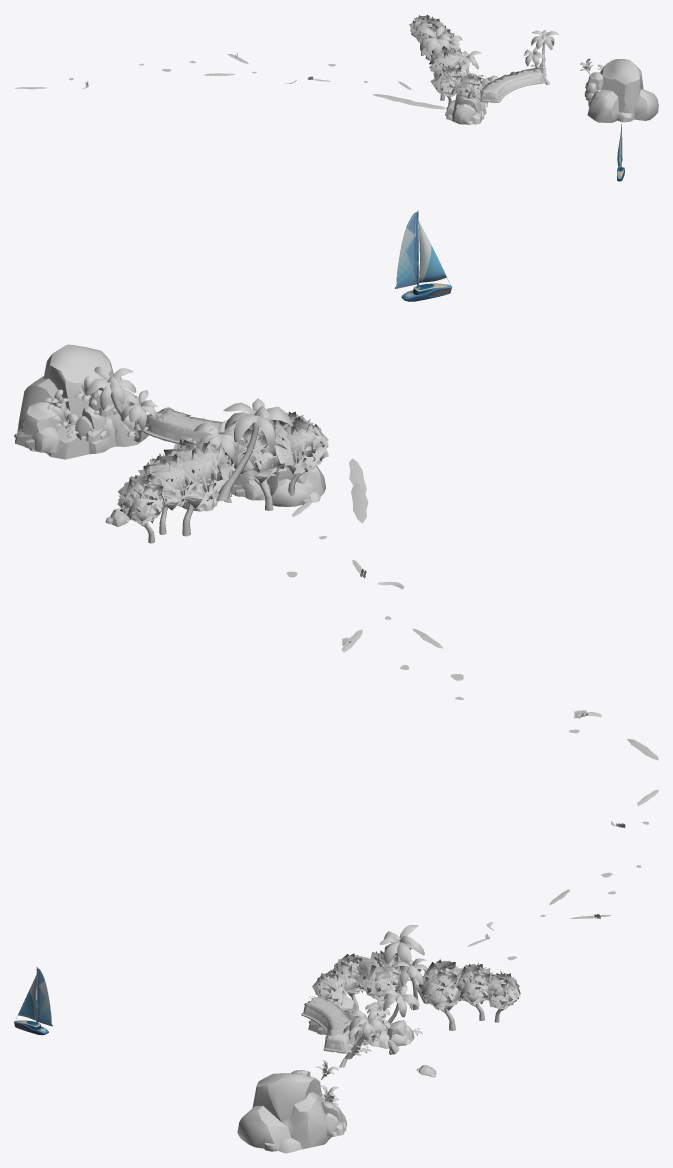
File: pref_Area_Red_Base_Small_beta_01_lv3.fbx
3 renders of one model, top to bottom at view 1: azimuth 30°, elevation 25°; view 2: azimuth 150°, elevation 25°; view 3: azimuth 270°, elevation 25°, orthographic. The views are drawn at different scales.
Visible parts, largest first — view 1: pref_sm_beach_techrock01_lv3 (3), sm_beach_techqiutree02_lv3 (×5), pref_sm_beach_techvegetation04_lv3, pref_sm_beach_techrock01_lv3 (8), pref_sm_beach_techptree02b_lv3, pref_sm_beach_techptree02b_lv3 (3), pref_sm_beach_techrock01_lv3 (1), pref_sm_beach_techptree02b_lv3 (2), pref_sm_beach_sailboat02_lv3; view 2: sm_beach_techqiutree02_lv3 (×5), pref_sm_beach_techrock01_lv3 (3), pref_sm_beach_techptree02b_lv3 (×2), pref_sm_beach_sailboat02_lv3, pref_sm_beach_techrock01_lv3 (10), pref_sm_beach_techrock01_lv3 (8), pref_sm_beach_techvegetation04_lv3, pref_sm_beach_techptree02b_lv3 (3), pref_sm_beach_techrock01_lv3 (5), pref_sm_beach_techptree02b_lv3 (2); view 3: sm_beach_techqiutree02_lv3 (×6), pref_sm_beach_techrock01_lv3 (3), pref_sm_beach_techptree02b_lv3 (×2), pref_sm_beach_techvegetation04_lv3, pref_sm_beach_sailboat02_lv3, pref_sm_beach_techptree02b_lv3 (3), pref_sm_beach_techptree02b_lv3 (1), pref_sm_beach_techrock01_lv3 (10), pref_sm_beach_techrock01_lv3 (2).
Boxes of the visible parts, left/top/right/bottom form: pref_sm_beach_techrock01_lv3 (3): left=587, top=59, right=658, bottom=122; sm_beach_techqiutree02_lv3 (×5): left=414, top=16, right=482, bottom=99; pref_sm_beach_techvegetation04_lv3: left=480, top=68, right=544, bottom=102; pref_sm_beach_techrock01_lv3 (8): left=445, top=93, right=486, bottom=125; pref_sm_beach_techptree02b_lv3: left=418, top=26, right=451, bottom=58; pref_sm_beach_techptree02b_lv3 (3): left=531, top=30, right=559, bottom=76; pref_sm_beach_techrock01_lv3 (1): left=585, top=72, right=603, bottom=93; pref_sm_beach_techptree02b_lv3 (2): left=523, top=46, right=549, bottom=84; pref_sm_beach_sailboat02_lv3: left=617, top=124, right=624, bottom=181; sm_beach_techqiutree02_lv3 (×5): left=117, top=417, right=328, bottom=525; pref_sm_beach_techrock01_lv3 (3): left=17, top=344, right=149, bottom=459; pref_sm_beach_techptree02b_lv3 (×2): left=194, top=398, right=293, bottom=502; pref_sm_beach_sailboat02_lv3: left=395, top=210, right=451, bottom=301; pref_sm_beach_techrock01_lv3 (10): left=14, top=402, right=60, bottom=452; pref_sm_beach_techrock01_lv3 (8): left=267, top=465, right=325, bottom=506; pref_sm_beach_techvegetation04_lv3: left=145, top=407, right=236, bottom=446; pref_sm_beach_techptree02b_lv3 (3): left=85, top=366, right=136, bottom=434; pref_sm_beach_techrock01_lv3 (5): left=75, top=405, right=117, bottom=441; pref_sm_beach_techptree02b_lv3 (2): left=121, top=390, right=157, bottom=441; sm_beach_techqiutree02_lv3 (×6): left=312, top=950, right=520, bottom=1010; pref_sm_beach_techrock01_lv3 (3): left=237, top=1073, right=337, bottom=1153; pref_sm_beach_techptree02b_lv3 (×2): left=379, top=925, right=429, bottom=1010; pref_sm_beach_techvegetation04_lv3: left=303, top=996, right=353, bottom=1053; pref_sm_beach_sailboat02_lv3: left=14, top=967, right=52, bottom=1035; pref_sm_beach_techptree02b_lv3 (3): left=345, top=1010, right=384, bottom=1059; pref_sm_beach_techptree02b_lv3 (1): left=381, top=985, right=419, bottom=1027; pref_sm_beach_techrock01_lv3 (10): left=322, top=1101, right=347, bottom=1136; pref_sm_beach_techrock01_lv3 (2): left=385, top=1020, right=414, bottom=1046.
Size of the model in its own units: 75.29 by 12.13 by 63.79.
